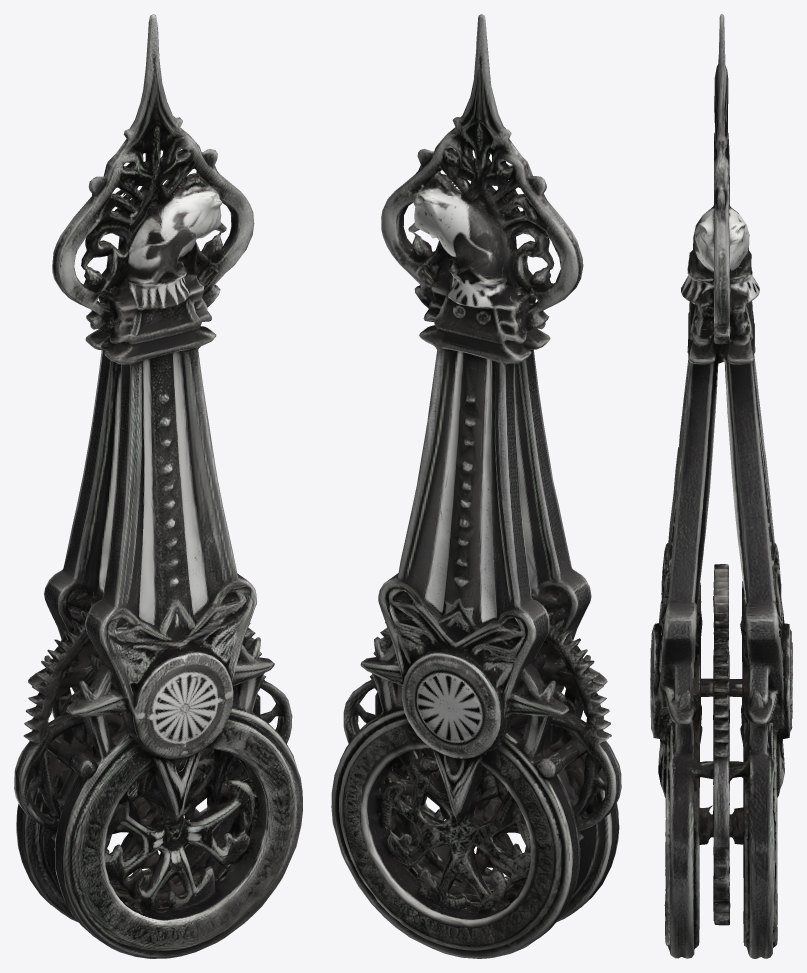
The model's file is Meshy_AI_Clockwork_Key_0518090148_texture.fbx.
3 renders of one model, left to right at view 1: azimuth 30°, elevation 25°; view 2: azimuth 150°, elevation 25°; view 3: azimuth 270°, elevation 25°, orthographic.
Parts seen in each view (by area): view 1: Mesh_0; view 2: Mesh_0; view 3: Mesh_0.
Boxes of the visible parts, x1,y1,x2,y2 form: Mesh_0: [14, 14, 302, 958]; Mesh_0: [331, 14, 621, 958]; Mesh_0: [650, 14, 792, 958].
Bounding box in the file's own units: 58.61 × 191 × 26.6.
1 material, 1 textured.
